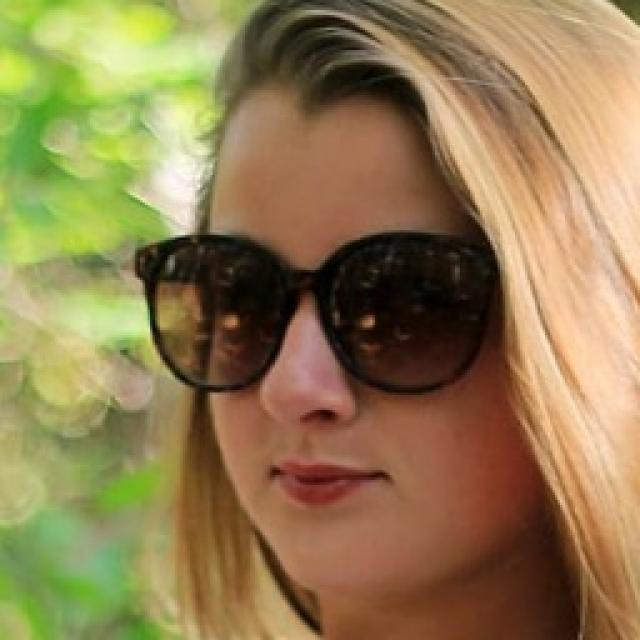glasses: (122, 214, 515, 411)
